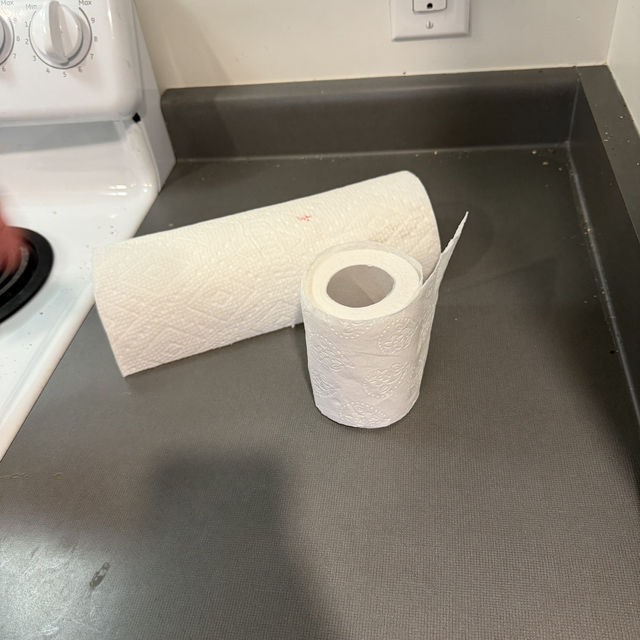Toilet Paper: (294, 221, 497, 446)
